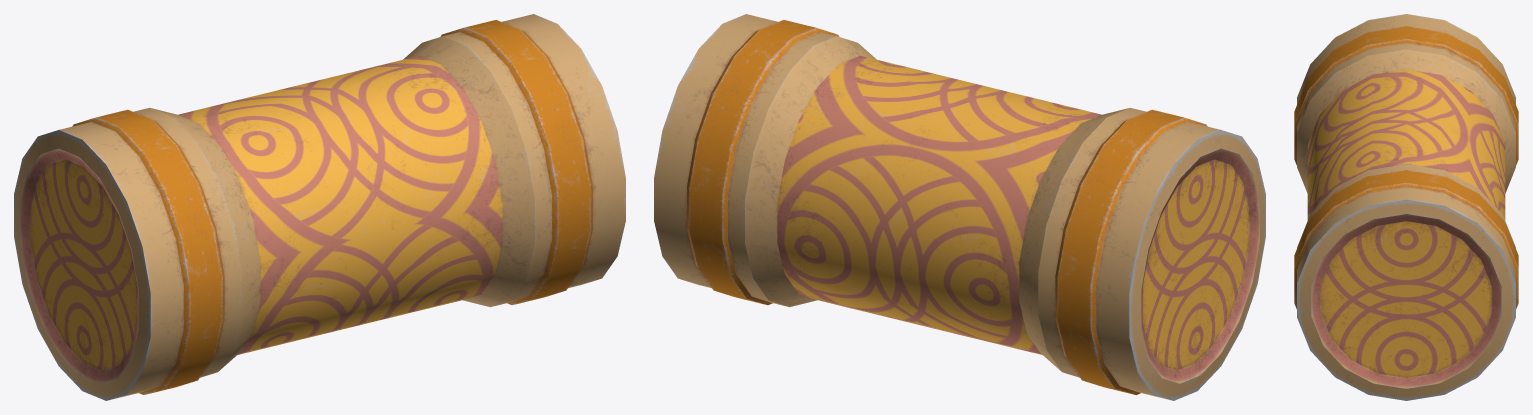
File: BarrelHeavy_Lying.fbx
3 renders of one model, left to right at view 1: azimuth 30°, elevation 25°; view 2: azimuth 150°, elevation 25°; view 3: azimuth 270°, elevation 25°, orthographic. The views are drawn at different scales.
Visible parts, largest first — view 1: Barrel_Heavy; view 2: Barrel_Heavy; view 3: Barrel_Heavy.
Part boxes in pixels (x1=…): Barrel_Heavy: x1=14, y1=14, x2=625, y2=400; Barrel_Heavy: x1=654, y1=14, x2=1265, y2=400; Barrel_Heavy: x1=1294, y1=14, x2=1518, y2=400.
Bounding box in the file's own units: 200 × 102 × 101.
